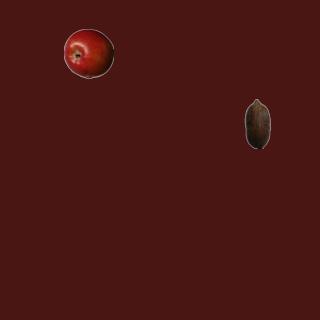Apple Braeburn: (63, 28, 113, 78)
Nut Pecan: (232, 98, 282, 148)
